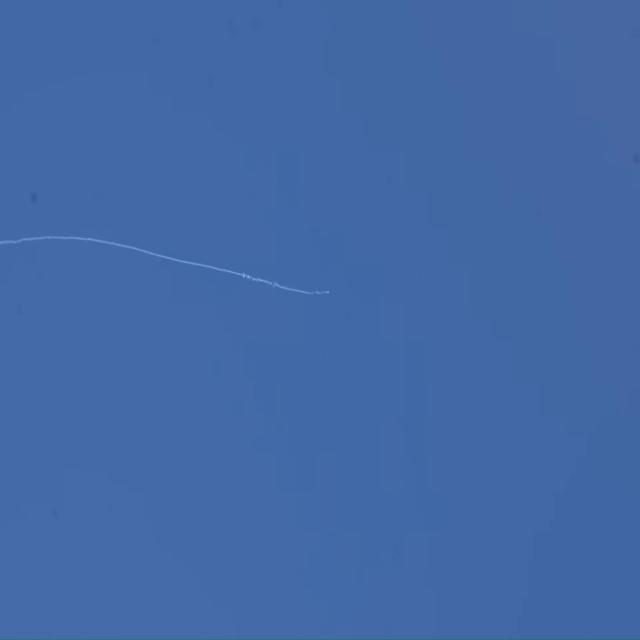Rocket: (327, 291, 329, 294)
